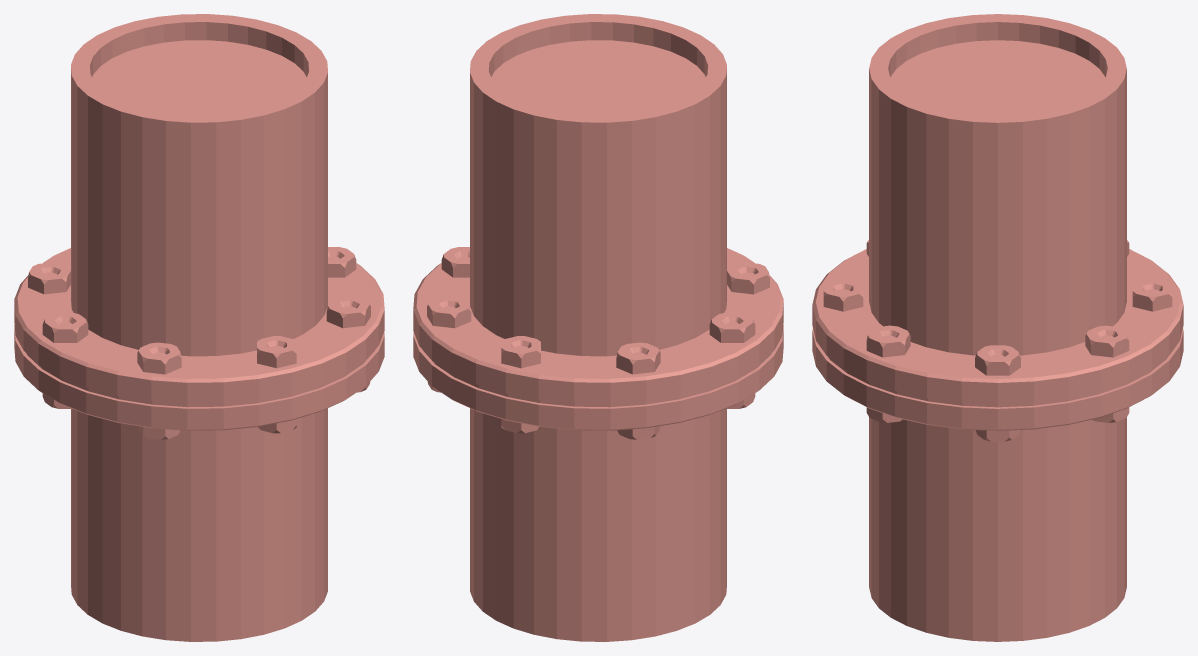
File: Cube005_Inside.fbx
3 views of the same model, side by side, from view 1: azimuth 30°, elevation 25°; view 2: azimuth 150°, elevation 25°; view 3: azimuth 270°, elevation 25° (orthographic).
Visible parts, largest first — view 1: Cube; view 2: Cube; view 3: Cube.
Part boxes in pixels (box(x1,y1,x2,y2)): Cube: box(14, 14, 384, 641); Cube: box(413, 14, 783, 641); Cube: box(812, 14, 1183, 641).
Bounding box in the file's own units: 64.8 × 100 × 64.8.
